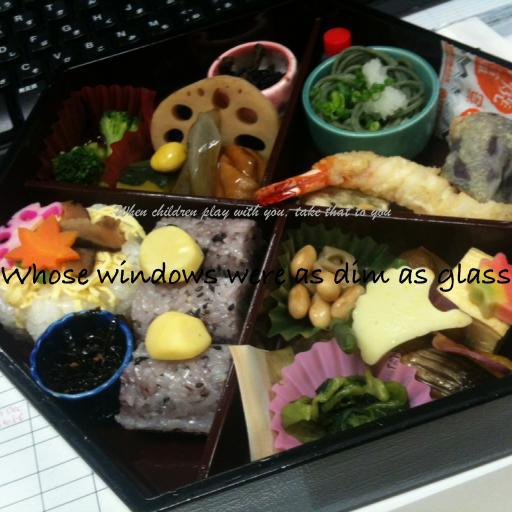Bradley Hand: (0, 260, 512, 292)
Brush Script MT: (115, 204, 391, 221)
